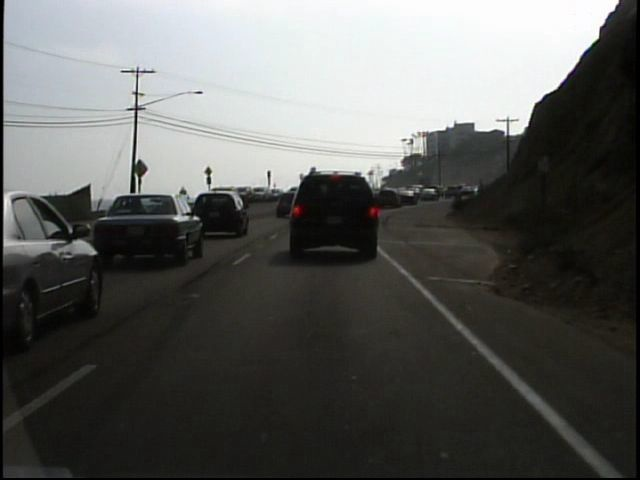person: (177, 183, 191, 211)
